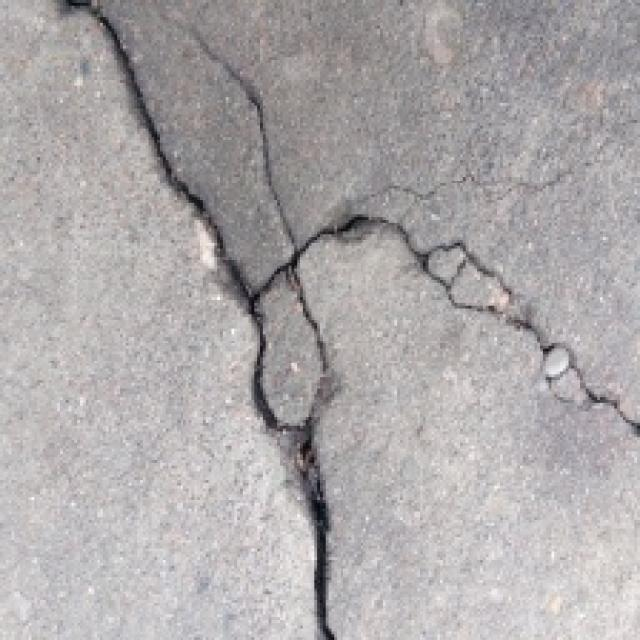crack: (44, 0, 360, 640), (176, 176, 640, 464)
